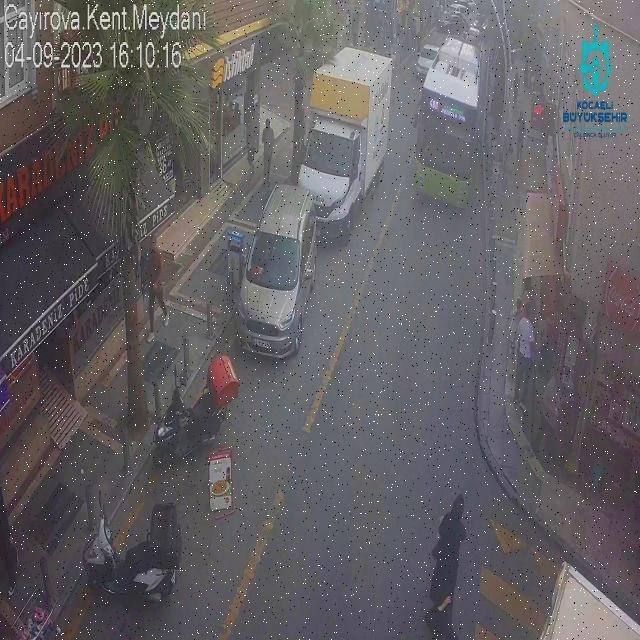Bus: (411, 39, 487, 207)
Cycle: (146, 352, 244, 476), (76, 502, 180, 617)
Truck: (298, 46, 394, 234)
Van: (235, 182, 316, 362)
